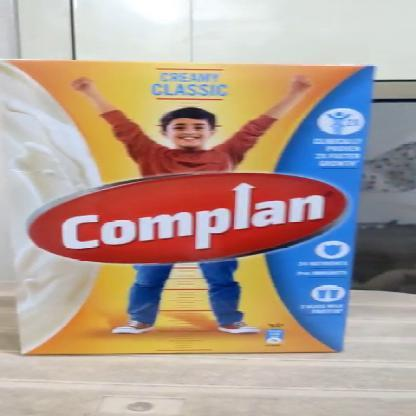Complan Classic Creme: (15, 63, 366, 357)
